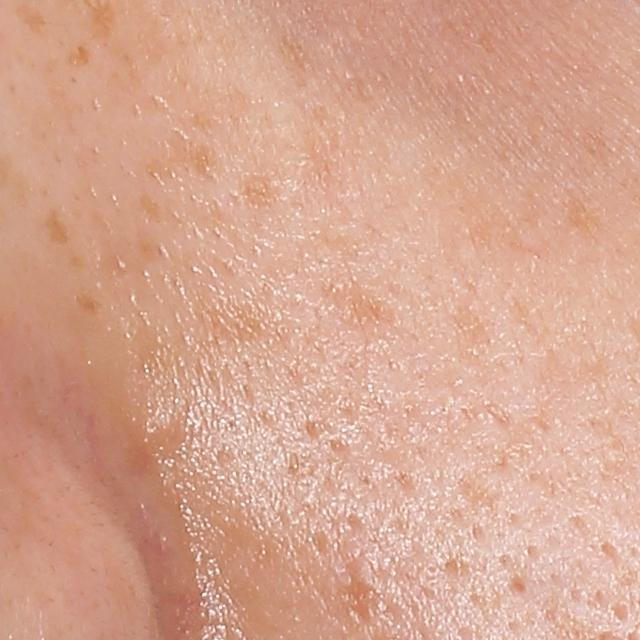atrophic_scar: (344, 555, 375, 632)
melasma: (150, 126, 221, 186), (201, 297, 284, 347), (319, 279, 396, 332), (236, 170, 286, 216), (449, 305, 497, 351), (39, 204, 75, 247), (14, 0, 51, 38), (63, 41, 98, 73), (71, 289, 107, 317), (138, 188, 165, 224)
